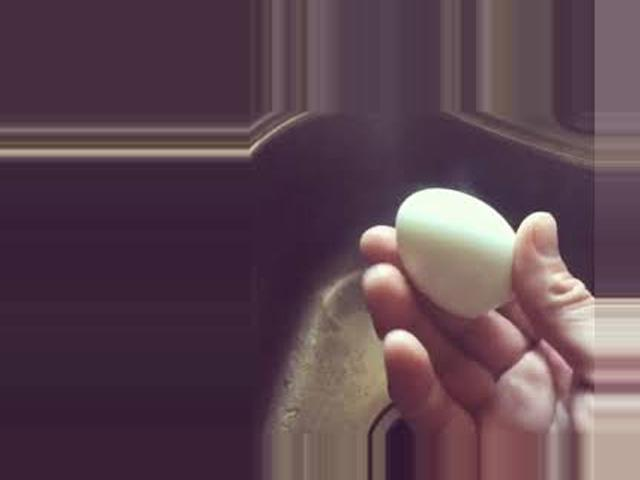egg: (398, 188, 518, 314)
